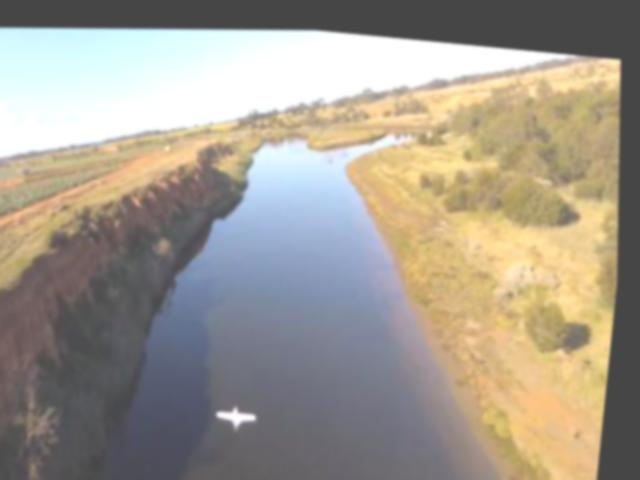uav: (221, 396, 267, 431)
